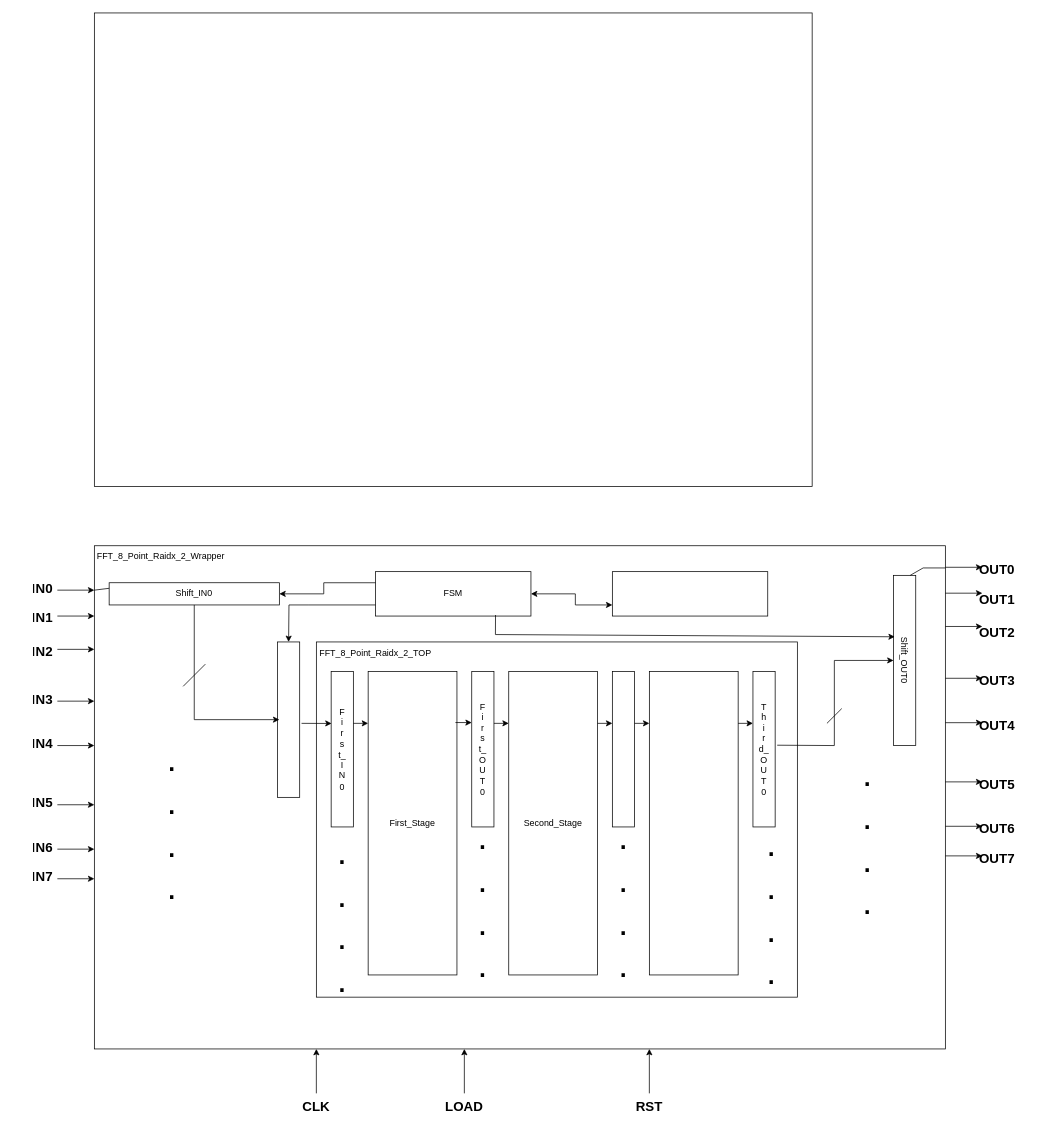
Some shapes in this 1039 by 1140 pixel diagram are drawn without their labels. The shapes that lost their labels are listed below. From the top down, each one's box as (x1, y1, x2, y2) in pixels, then its label:
(612, 571, 768, 616): Counter
(277, 641, 300, 797): S i g n a l S a m p l e _0
(612, 671, 635, 827): Sec o n d _ O U T 0
(649, 671, 738, 975): Third_Stage
